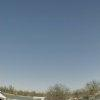Tree: (40, 72, 100, 100)
